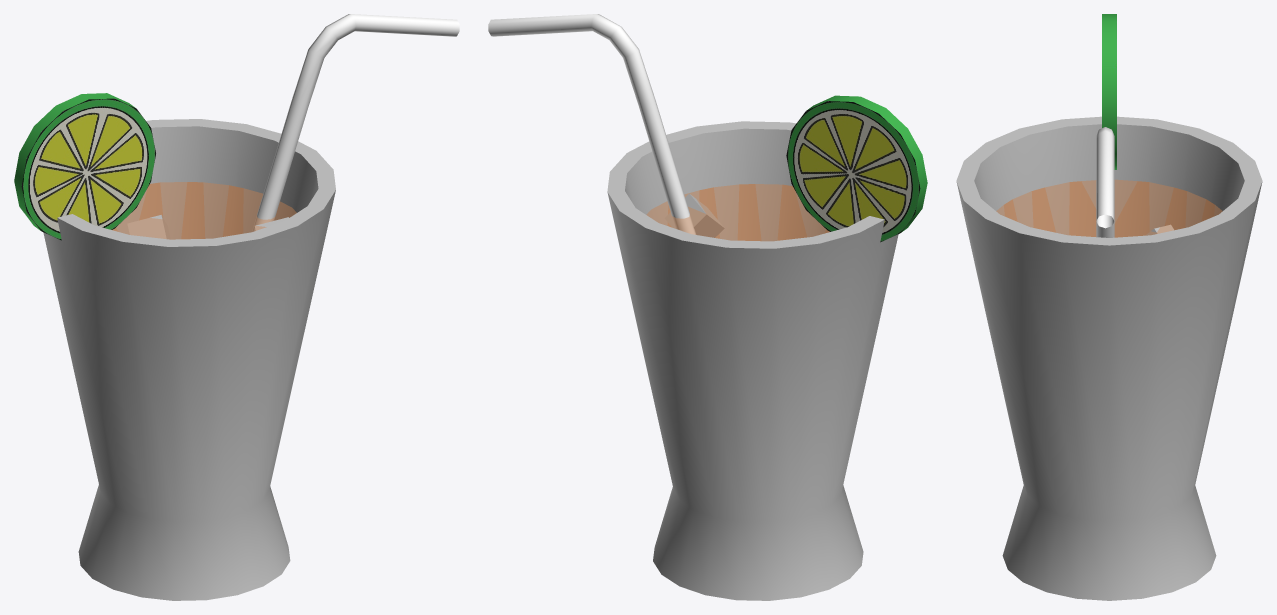
The model's file is Juice.fbx.
The picture shows the model from 3 angles, left to right: view 1: azimuth 30°, elevation 25°; view 2: azimuth 150°, elevation 25°; view 3: azimuth 270°, elevation 25°; orthographic projection.
Visible parts, largest first — view 1: Juice_cup, lemon, juice, straw, ice; view 2: Juice_cup, lemon, juice, straw, ice; view 3: Juice_cup, juice, straw, lemon.
Part boxes in pixels (box(x1,y1,x2,y2)): Juice_cup: box(43, 119, 335, 600); lemon: box(14, 93, 155, 240); juice: box(112, 182, 296, 239); straw: box(252, 14, 459, 231); ice: box(127, 215, 288, 239); Juice_cup: box(607, 121, 898, 600); lemon: box(786, 95, 927, 242); juice: box(647, 184, 829, 241); straw: box(488, 14, 696, 234); ice: box(665, 193, 724, 237); Juice_cup: box(956, 116, 1262, 600); juice: box(996, 180, 1222, 237); straw: box(1096, 127, 1114, 237); lemon: box(1102, 14, 1116, 169).
Bounding box in the file's own units: 810 × 891 × 489.
Materials: 5 (1 with a texture image).
